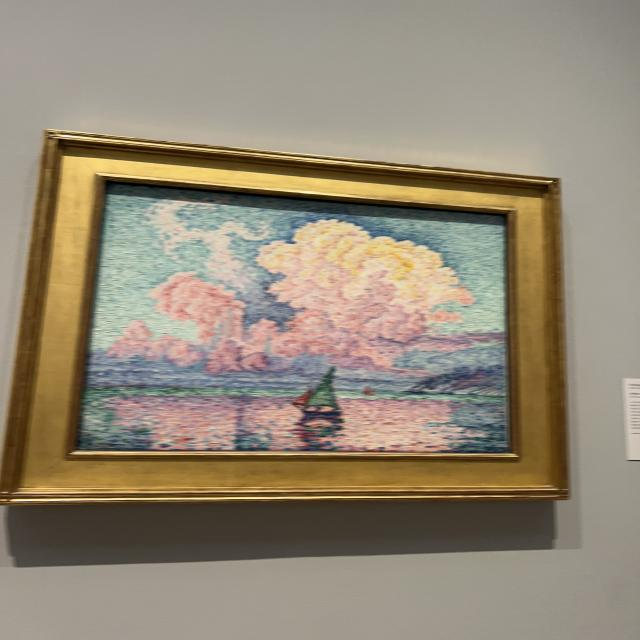sunrise: (76, 182, 511, 452)
